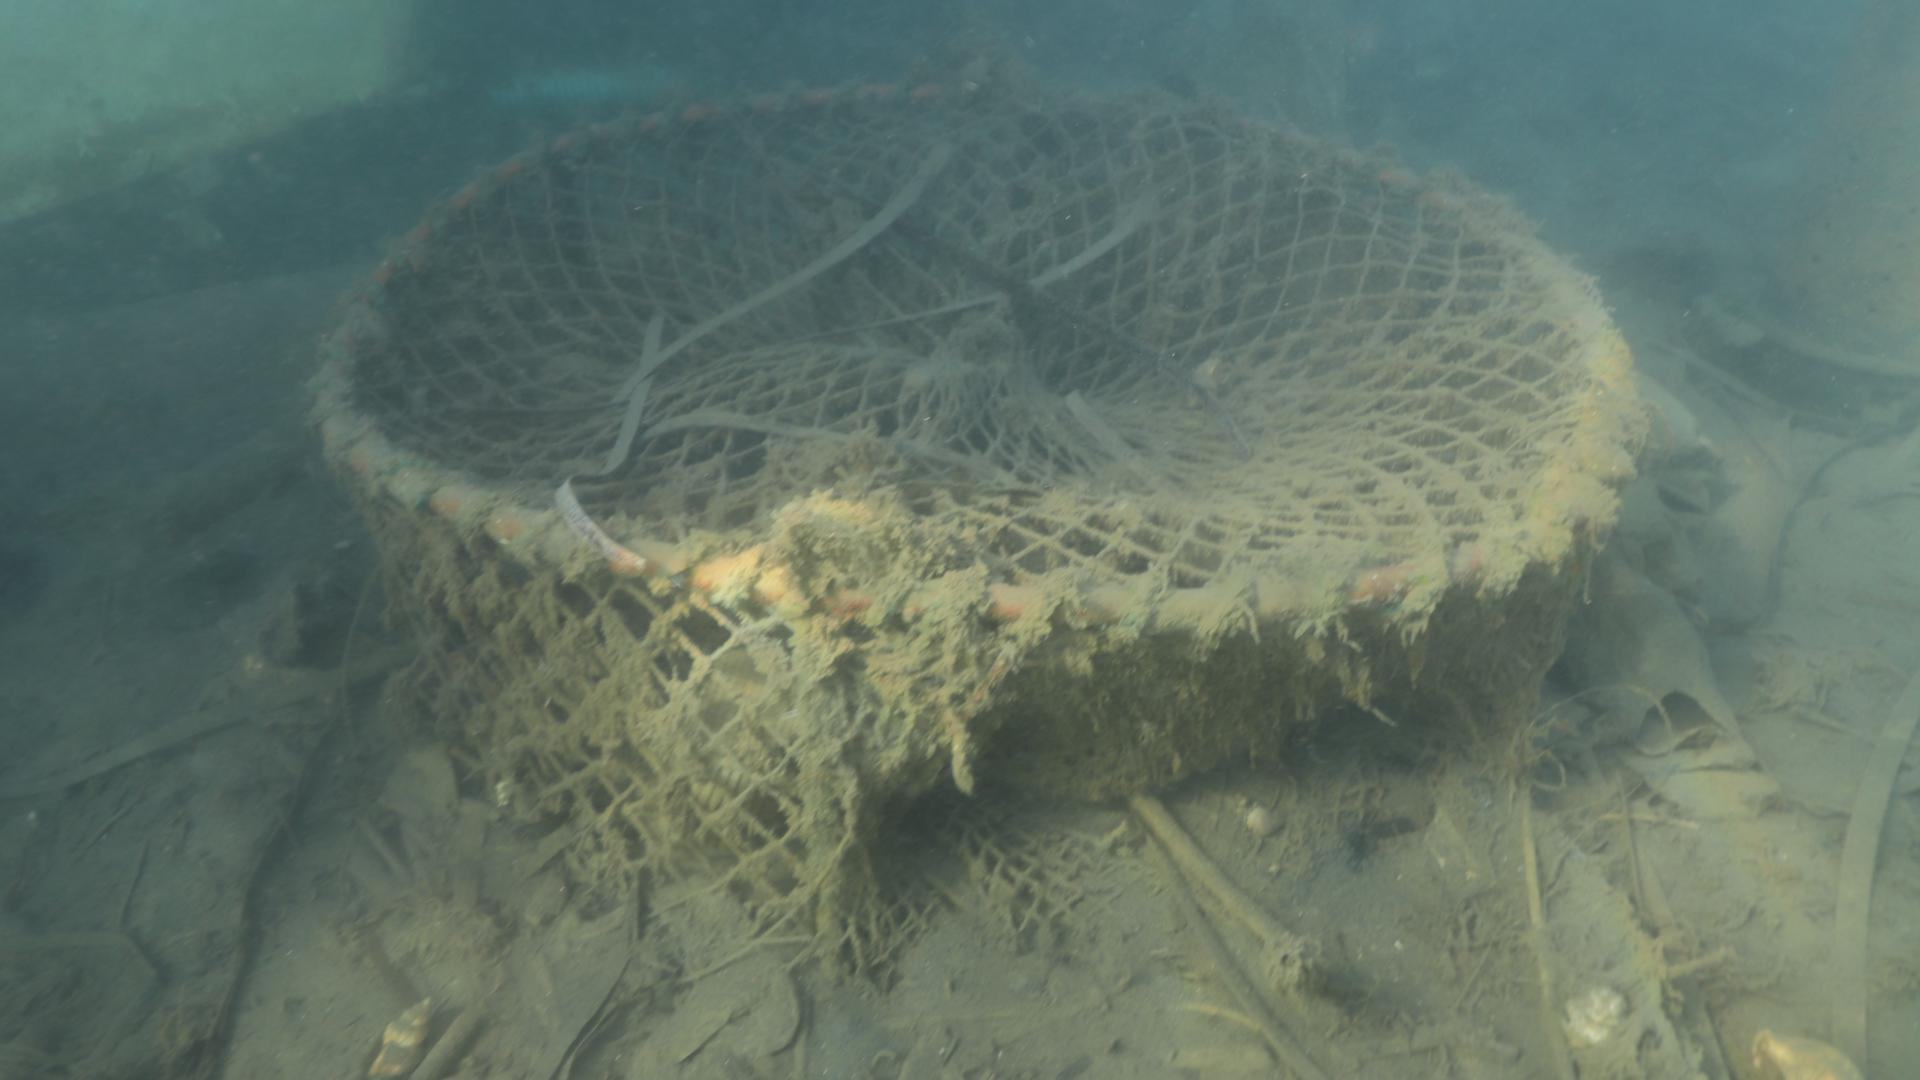circular fish trap: (306, 78, 1639, 949)
